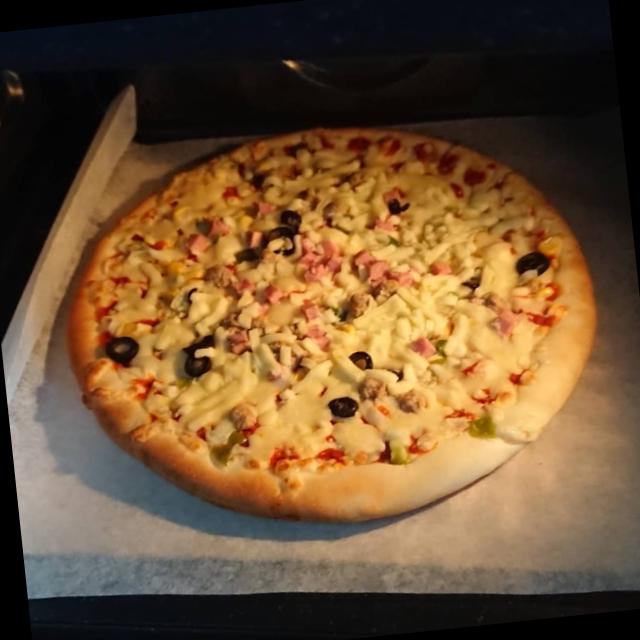black_olives: (256, 218, 305, 266), (172, 329, 215, 380), (506, 242, 551, 283), (98, 329, 143, 369), (328, 388, 362, 422), (346, 345, 380, 375), (228, 242, 266, 268), (277, 204, 305, 230), (382, 190, 406, 218)
pizza: (61, 128, 597, 526)
